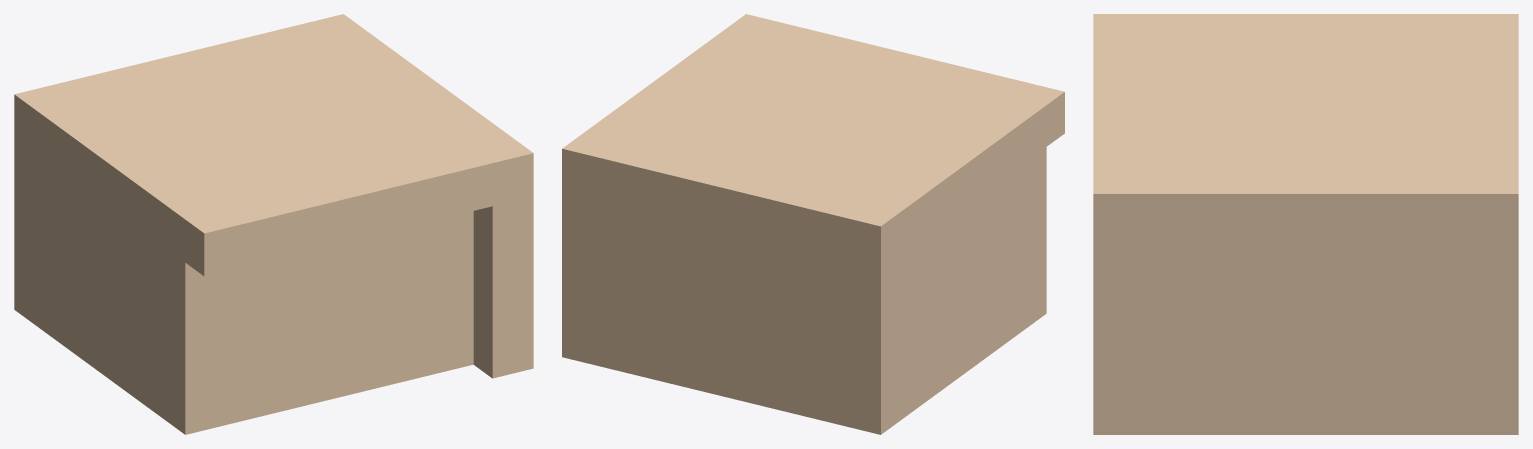
Rendered from building-window-large-right.obj.
3 views of the same model, side by side, from view 1: azimuth 30°, elevation 25°; view 2: azimuth 150°, elevation 25°; view 3: azimuth 270°, elevation 25° (orthographic). The views are drawn at different scales.
Size of the model in its own units: 1 by 0.625 by 1.
